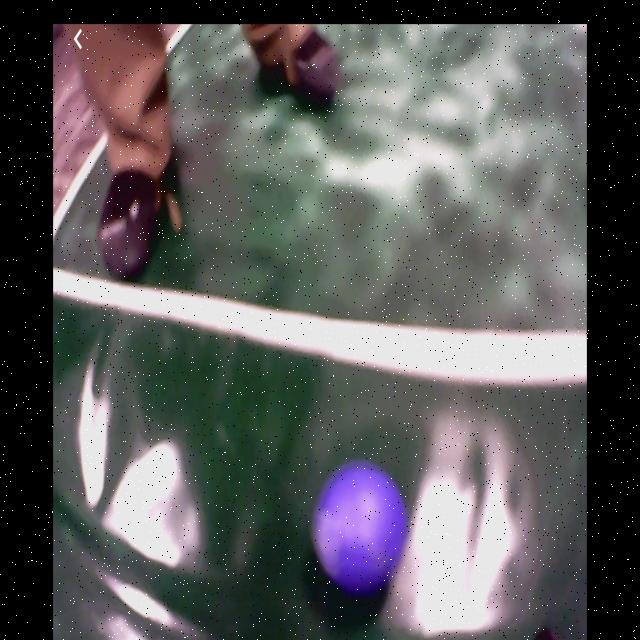ball: (320, 464, 406, 601)
